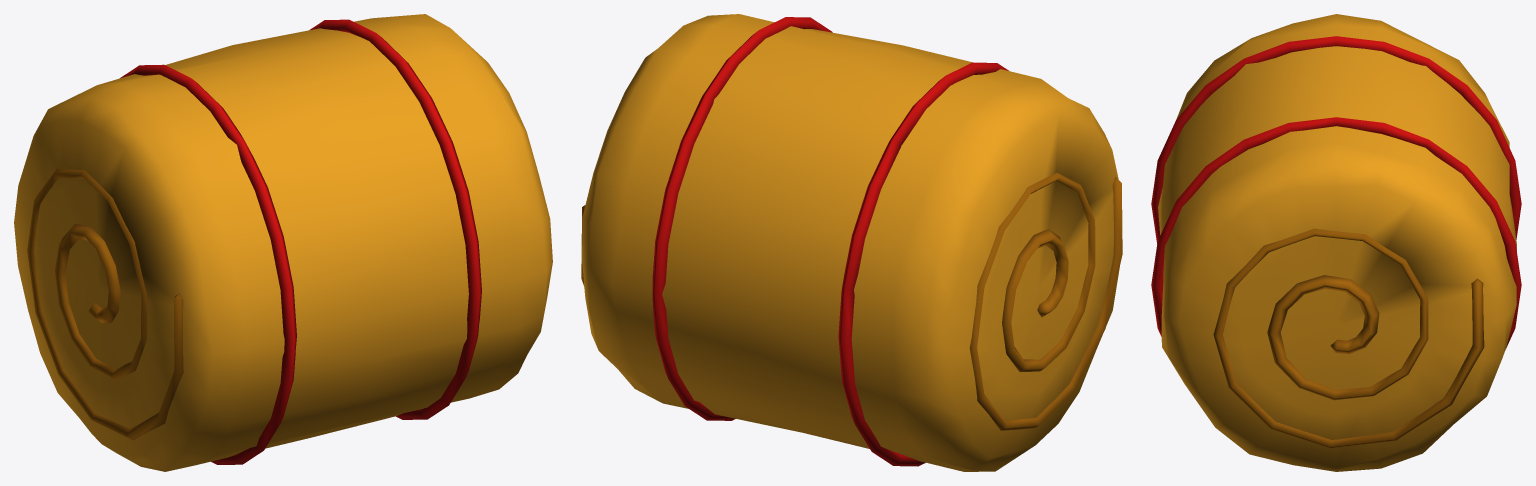
The model's file is Cargo_Hay.fbx.
The picture shows the model from 3 angles, left to right: view 1: azimuth 30°, elevation 25°; view 2: azimuth 150°, elevation 25°; view 3: azimuth 270°, elevation 25°; orthographic projection. The views are drawn at different scales.
Visible parts, largest first — view 1: Cargo_Hay; view 2: Cargo_Hay; view 3: Cargo_Hay.
Part boxes in pixels (bbox=[...]): Cargo_Hay: bbox=[14, 14, 552, 471]; Cargo_Hay: bbox=[581, 14, 1122, 471]; Cargo_Hay: bbox=[1151, 14, 1521, 471].
Size of the model in its own units: 0.656 by 0.5988 by 0.5988.
